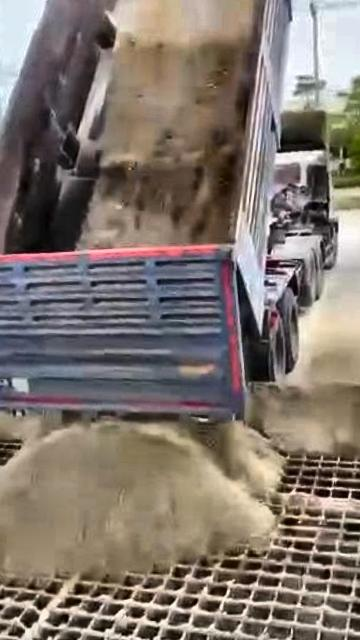sand: (78, 0, 265, 248), (0, 414, 277, 576), (248, 378, 360, 457), (0, 578, 76, 640), (0, 363, 40, 448), (285, 494, 360, 513)
